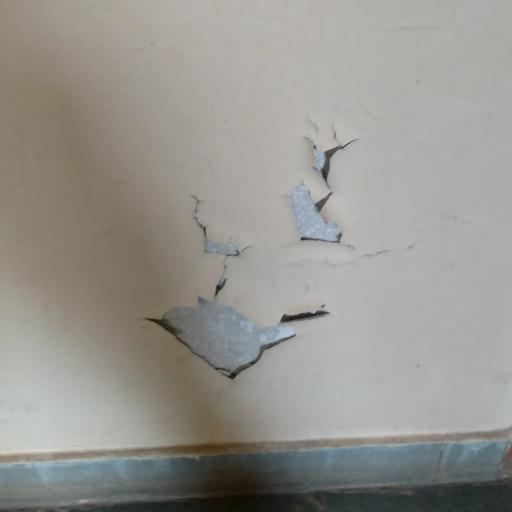peeling: (126, 182, 347, 396), (273, 109, 377, 254)
